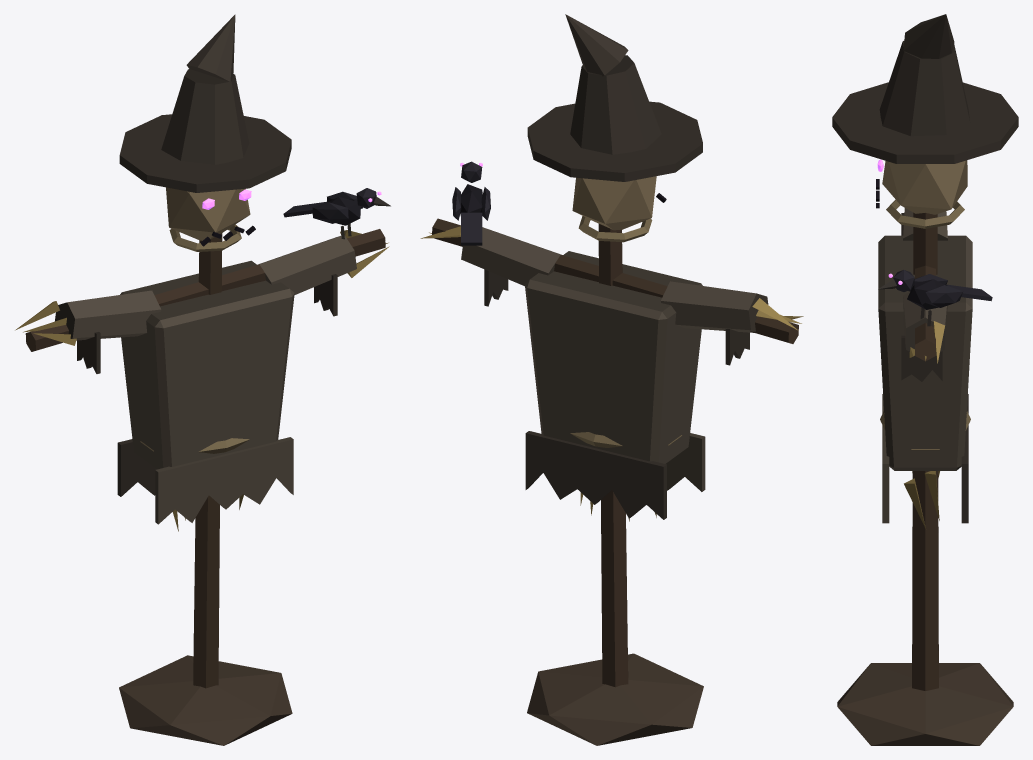
Rendered from scarecrow.glb.
3 views of the same model, side by side, from view 1: azimuth 30°, elevation 25°; view 2: azimuth 150°, elevation 25°; view 3: azimuth 270°, elevation 25° (orthographic). The views are drawn at different scales.
Visible parts, largest first — view 1: Scarecrow; view 2: Scarecrow; view 3: Scarecrow.
Part boxes in pixels (<box>): Scarecrow: <box>15,14,390,745</box>; Scarecrow: <box>420,14,803,745</box>; Scarecrow: <box>832,14,1018,745</box>.
Size of the model in its own units: 1.32 by 2.34 by 0.54.
